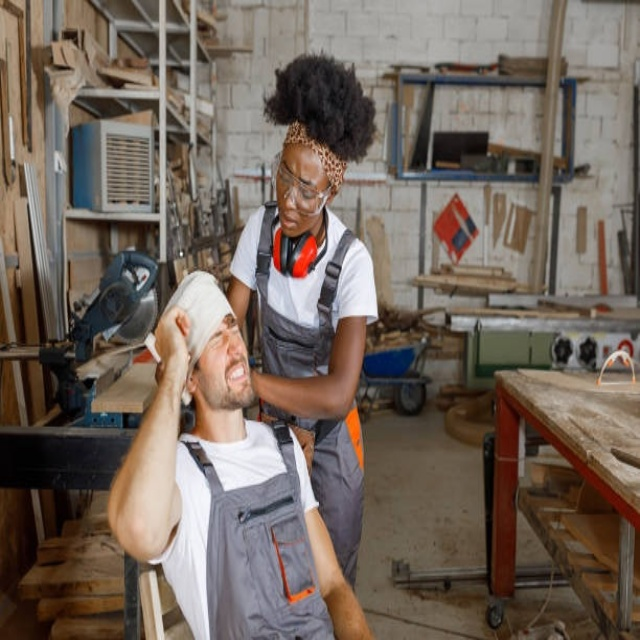Gafas: (274, 146, 329, 218)
Sin_gafas: (198, 315, 242, 356)
Sin_guantes: (151, 301, 195, 380)
Sin_mascara: (216, 356, 251, 398), (276, 207, 298, 235)
